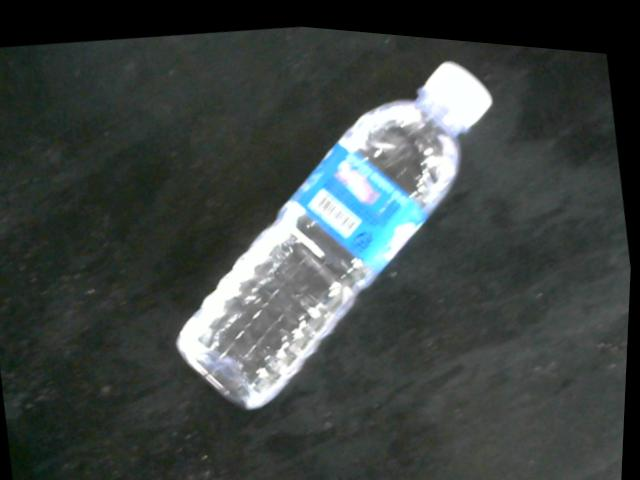bottle: (177, 52, 496, 407)
